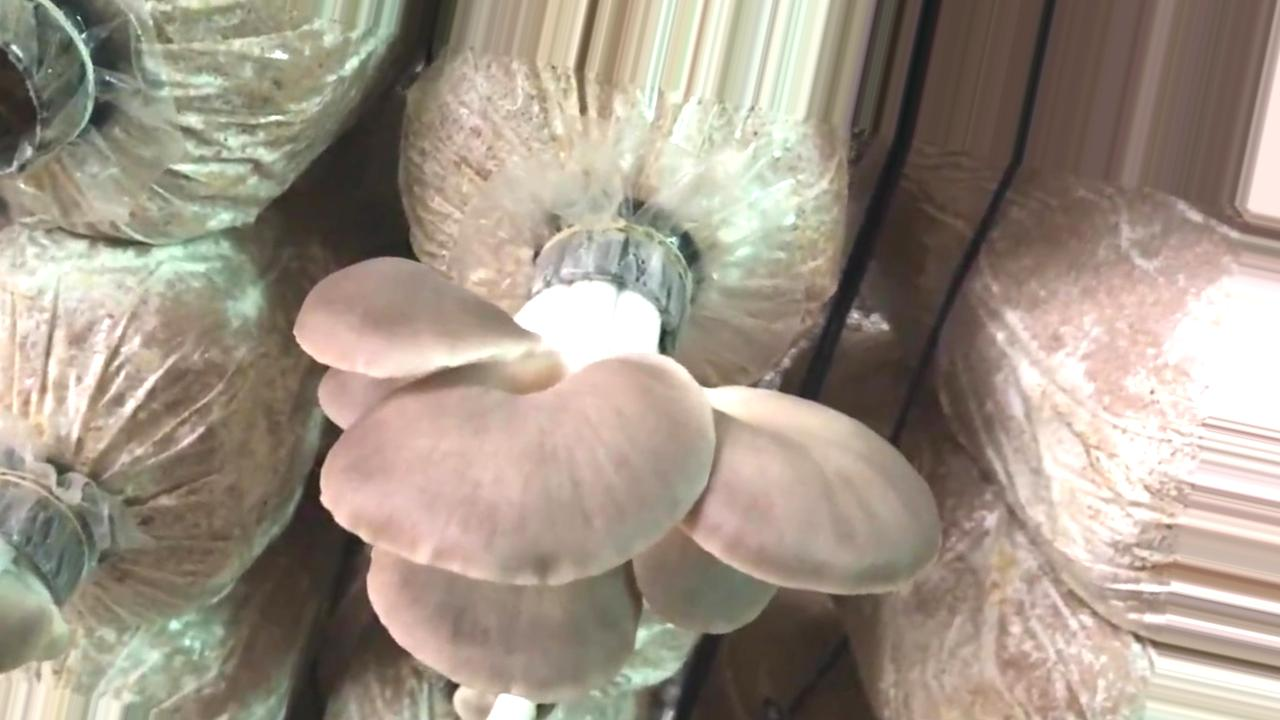nam: (294, 225, 941, 706), (1, 474, 79, 672)
